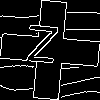Z: (25, 25, 59, 73)
